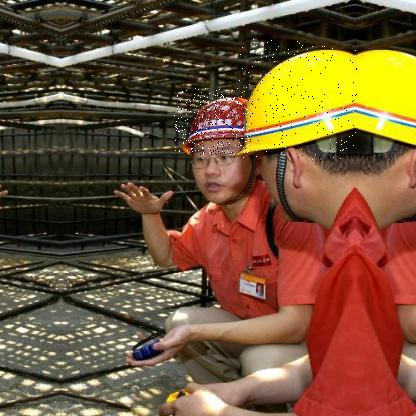safetyhelmet: (239, 39, 358, 162), (174, 88, 252, 156)
